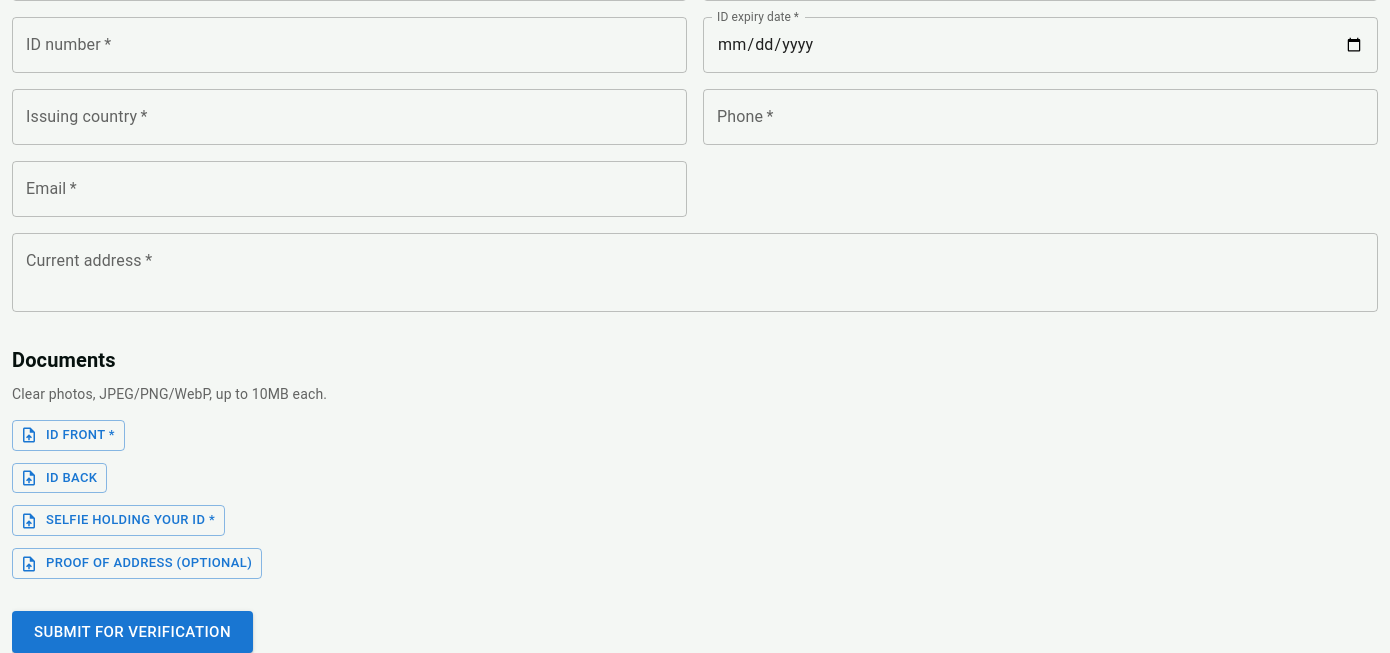
IdentitySection › does not demand an ID back photo when the ID type is a passport
This screenshot has width=1390, height=653.
(page scrolled)
Click the button "Submit for verification": click(132, 632) [12, 611, 253, 652]
(page scrolled)
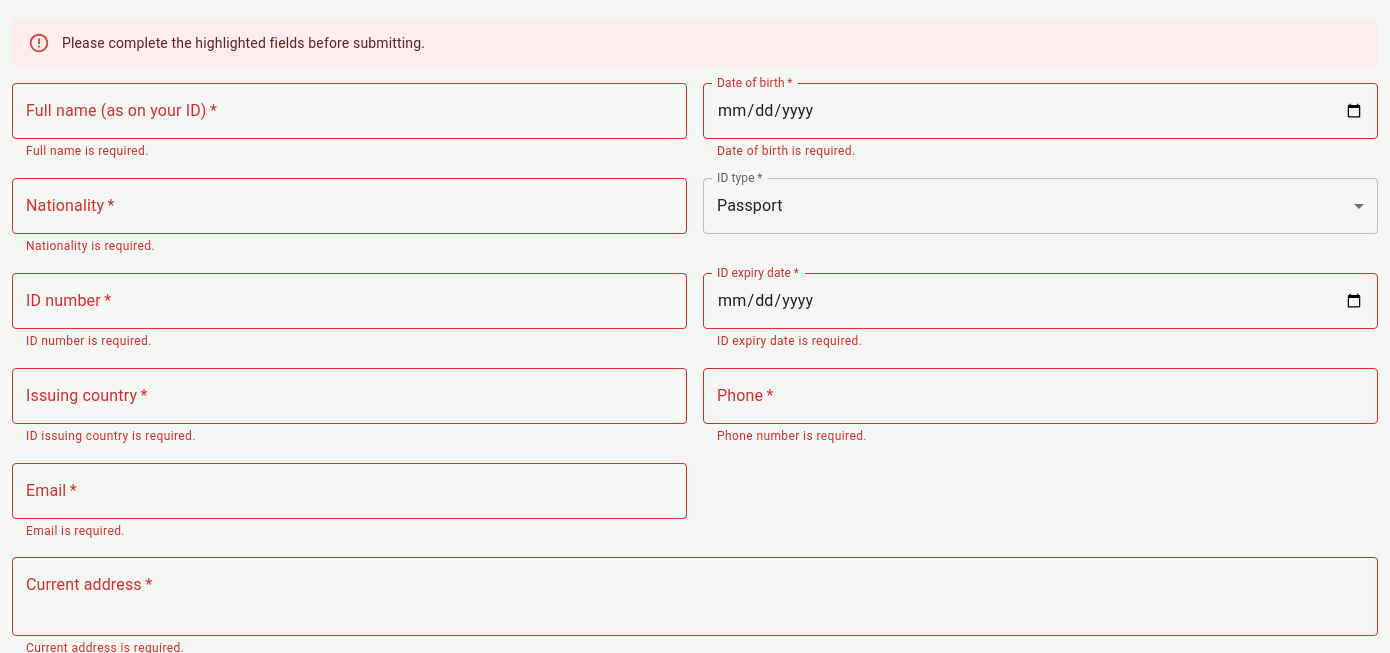
Check: the text "Please complete the highlighted fields before submitting." is shown, box [62, 35, 425, 51]
